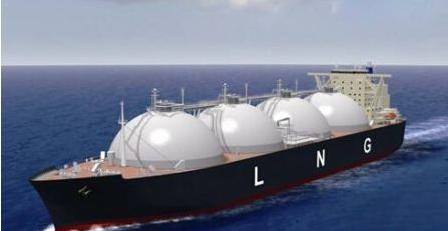Cargoship: (29, 60, 407, 228)
